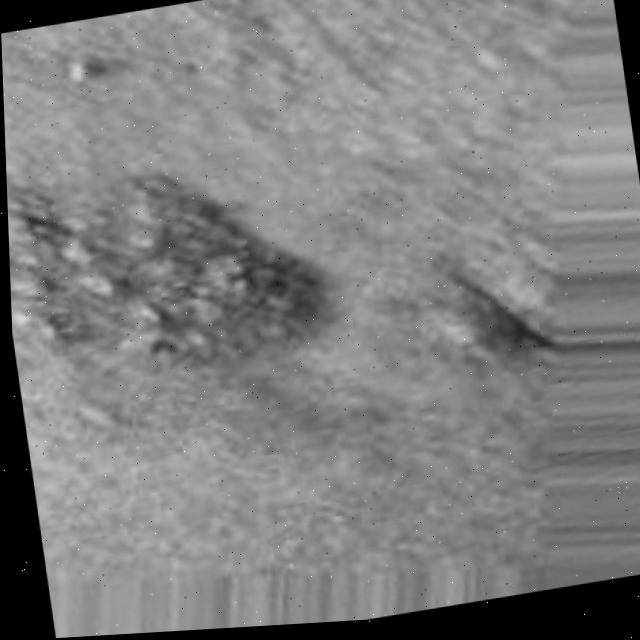Shingles: (5, 127, 343, 401)
